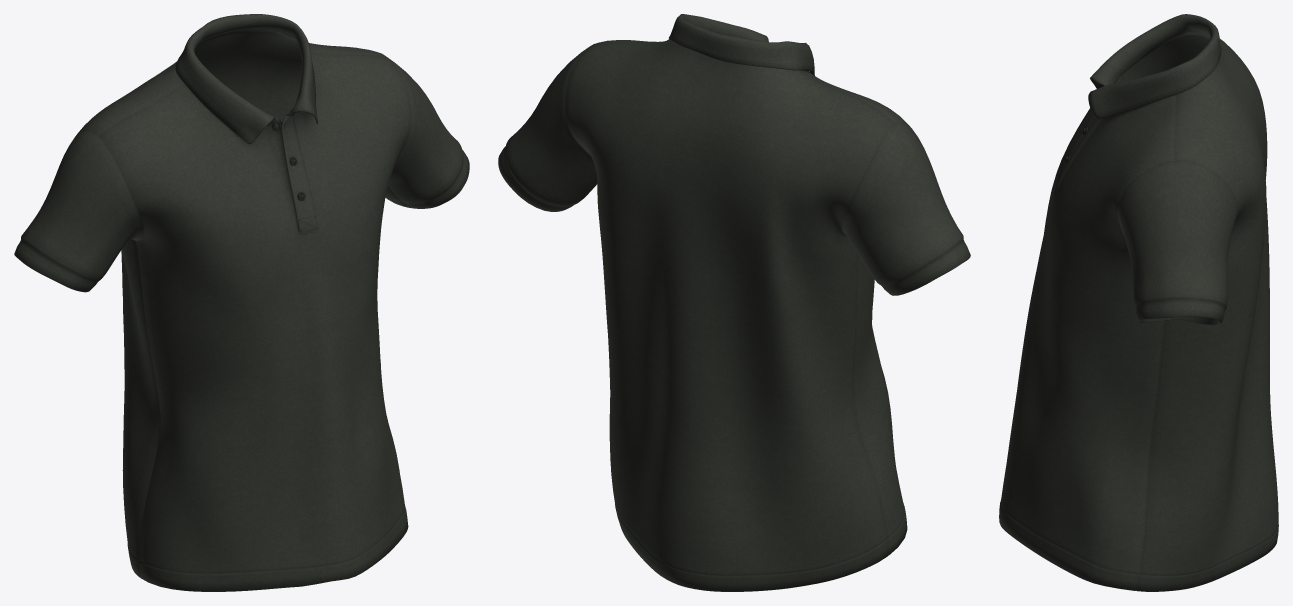
Rendered from grey_polo_shirt.glb.
The picture shows the model from 3 angles, left to right: view 1: azimuth 30°, elevation 25°; view 2: azimuth 150°, elevation 25°; view 3: azimuth 270°, elevation 25°; orthographic projection. The views are drawn at different scales.
Parts seen in each view (by area): view 1: Polo Shirt.001_0; view 2: Polo Shirt.001_0; view 3: Polo Shirt.001_0.
Boxes of the visible parts, bbox=[...] form: Polo Shirt.001_0: bbox=[14, 14, 469, 591]; Polo Shirt.001_0: bbox=[498, 14, 970, 591]; Polo Shirt.001_0: bbox=[999, 14, 1278, 591].
Size of the model in its own units: 0.6433 by 0.7101 by 0.3541.
2 materials, 2 textured.
